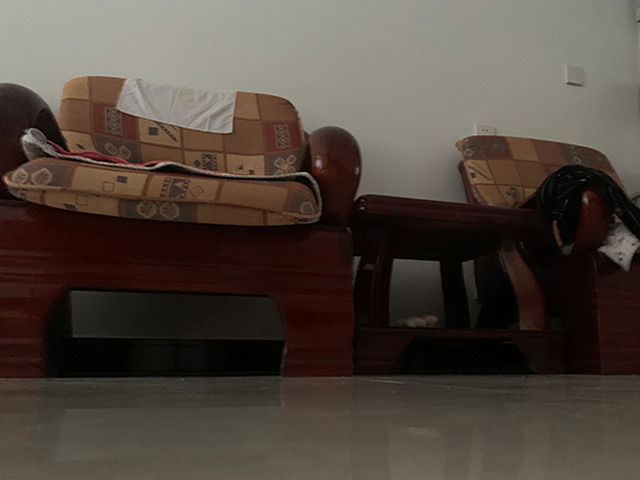sofa: (1, 74, 362, 380), (455, 136, 640, 377)
table: (351, 193, 568, 376)
